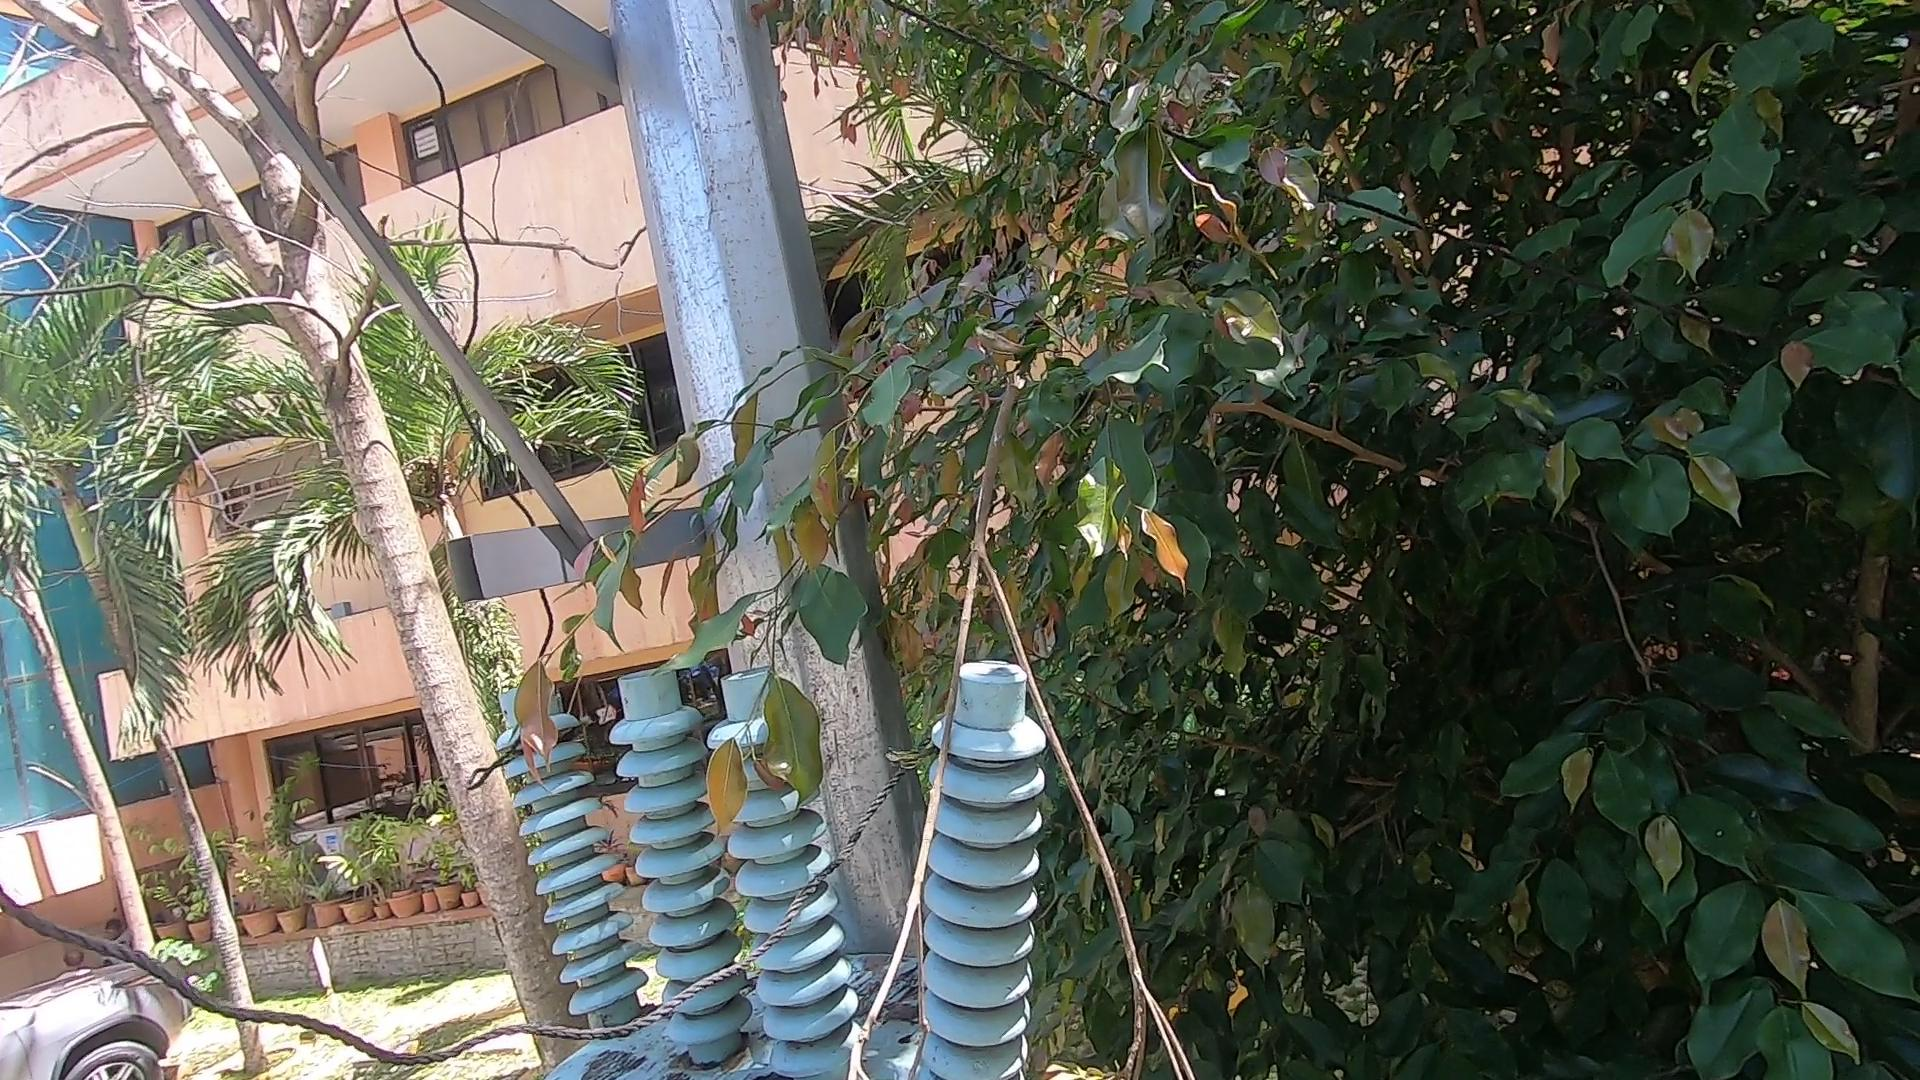tree branch: (833, 378, 1205, 1073)
